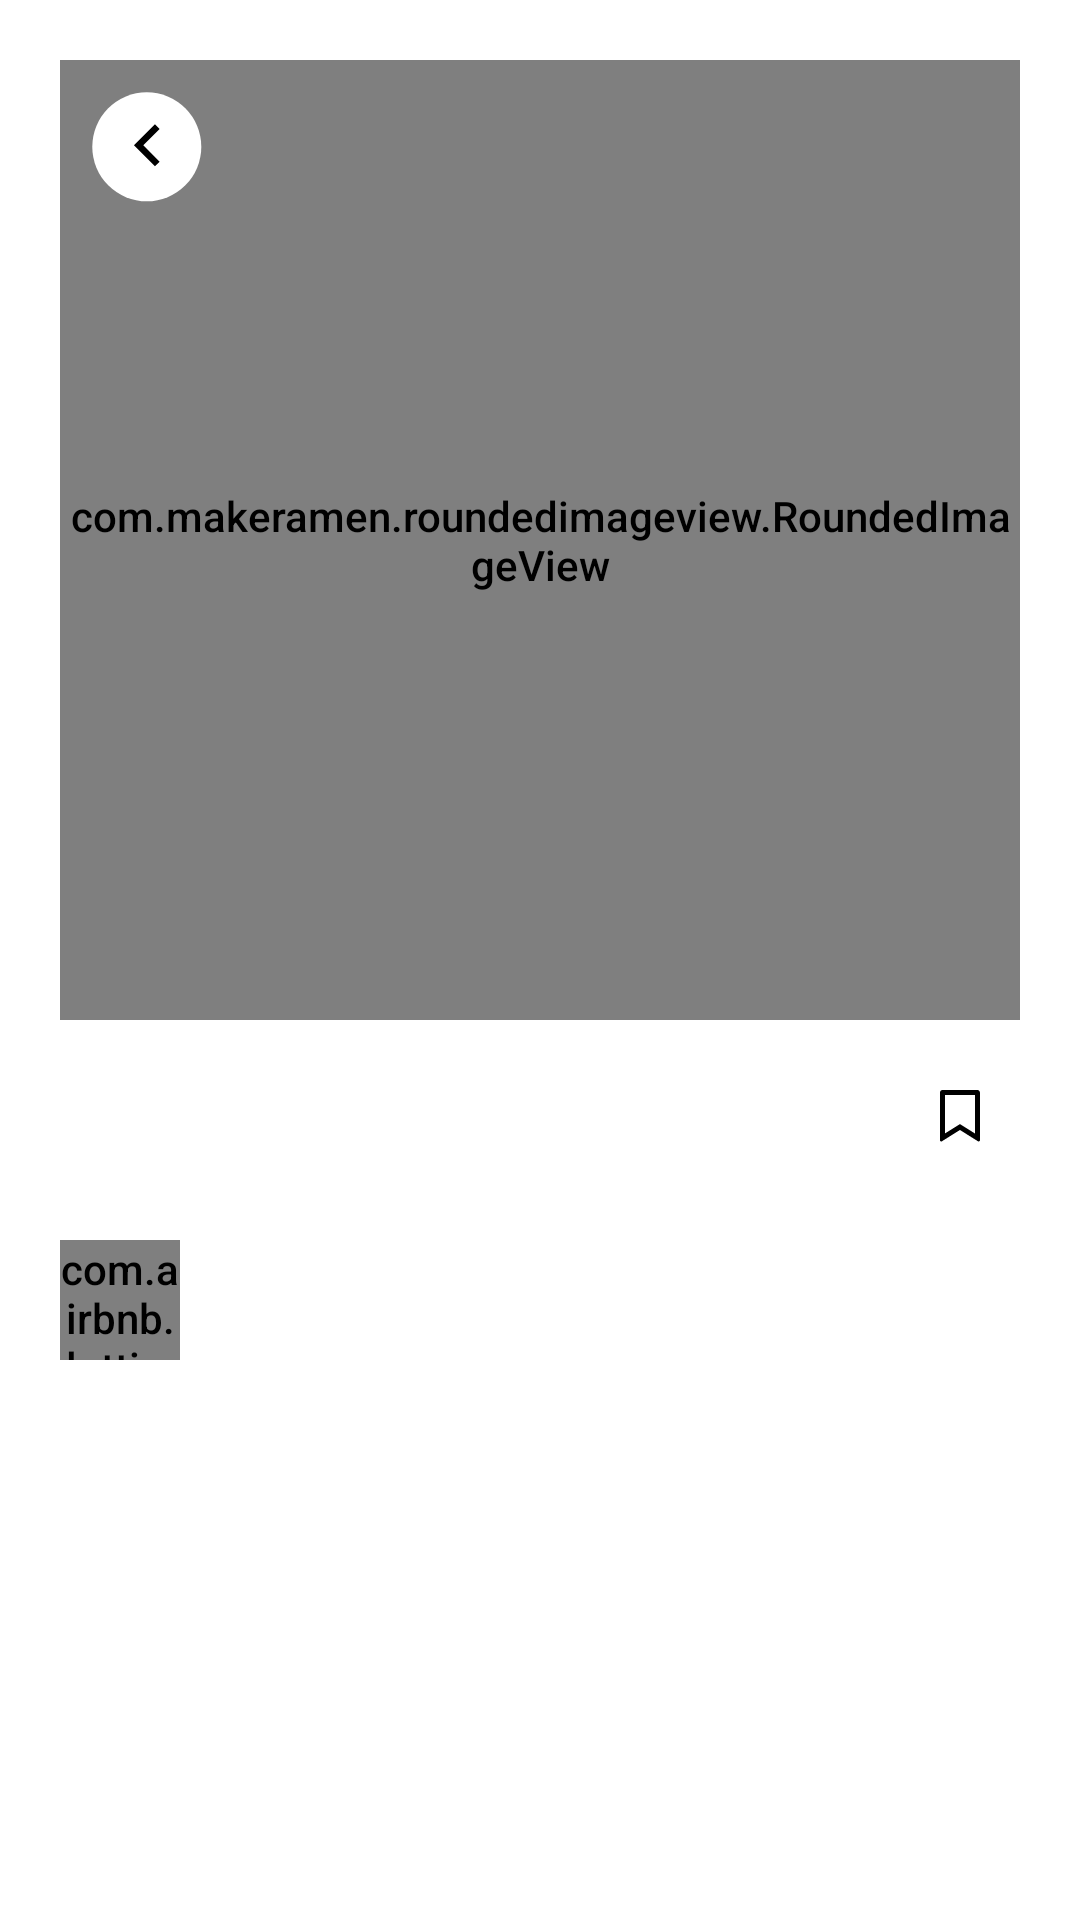

Screen size 1080*1920. Icon name, then its center in pixels as [x,y]:
ac bookmark: [960,1116]
back: [147,147]
